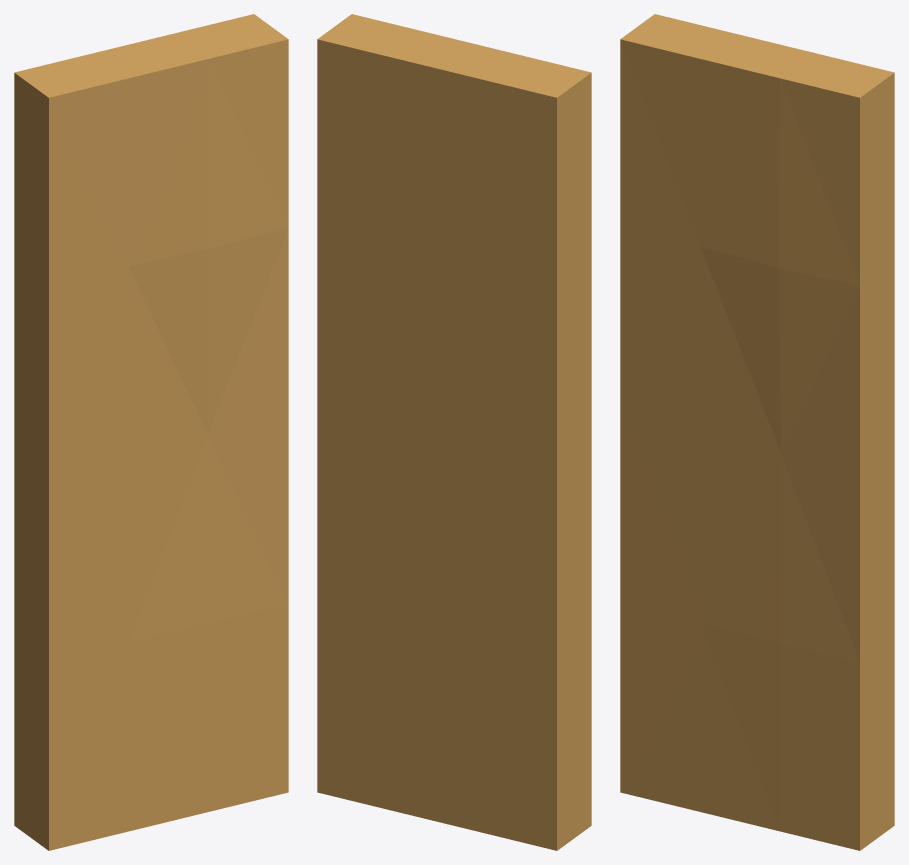
Rendered from SM_Wall_Panel_03.fbx.
3 views of the same model, side by side, from view 1: azimuth 30°, elevation 25°; view 2: azimuth 150°, elevation 25°; view 3: azimuth 330°, elevation 25° (orthographic).
Visible parts, largest first — view 1: SM_Wall_Panel_03; view 2: SM_Wall_Panel_03; view 3: SM_Wall_Panel_03.
Boxes of the visible parts, bbox=[...] form: SM_Wall_Panel_03: bbox=[14, 14, 288, 850]; SM_Wall_Panel_03: bbox=[317, 14, 591, 850]; SM_Wall_Panel_03: bbox=[620, 14, 894, 850].
Size of the model in its own units: 1 by 3 by 0.2591.
1 material, 1 textured.
